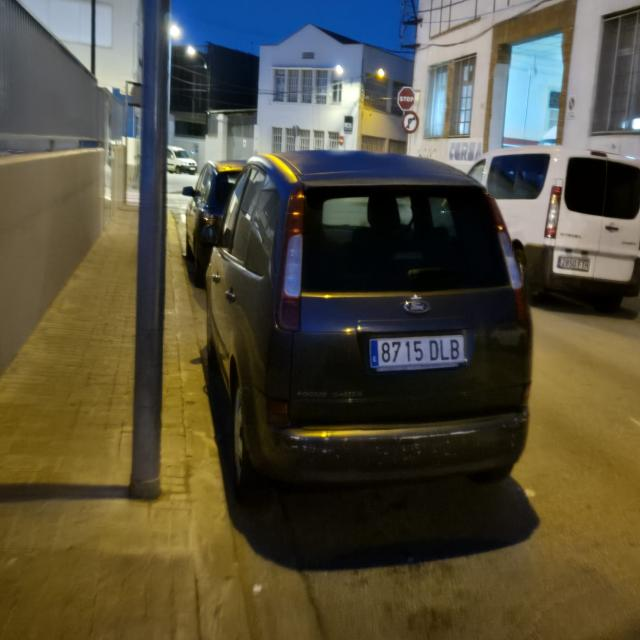license_plate-34Td: (369, 335, 467, 371)
